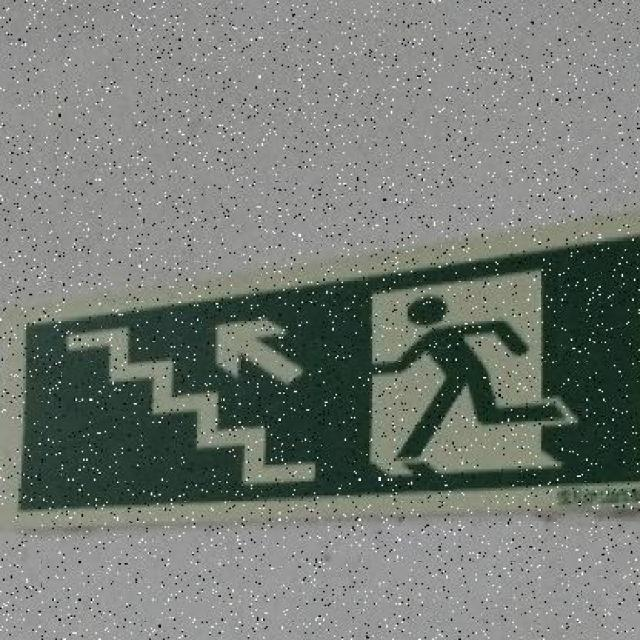emergency_exit: (18, 235, 639, 513)
